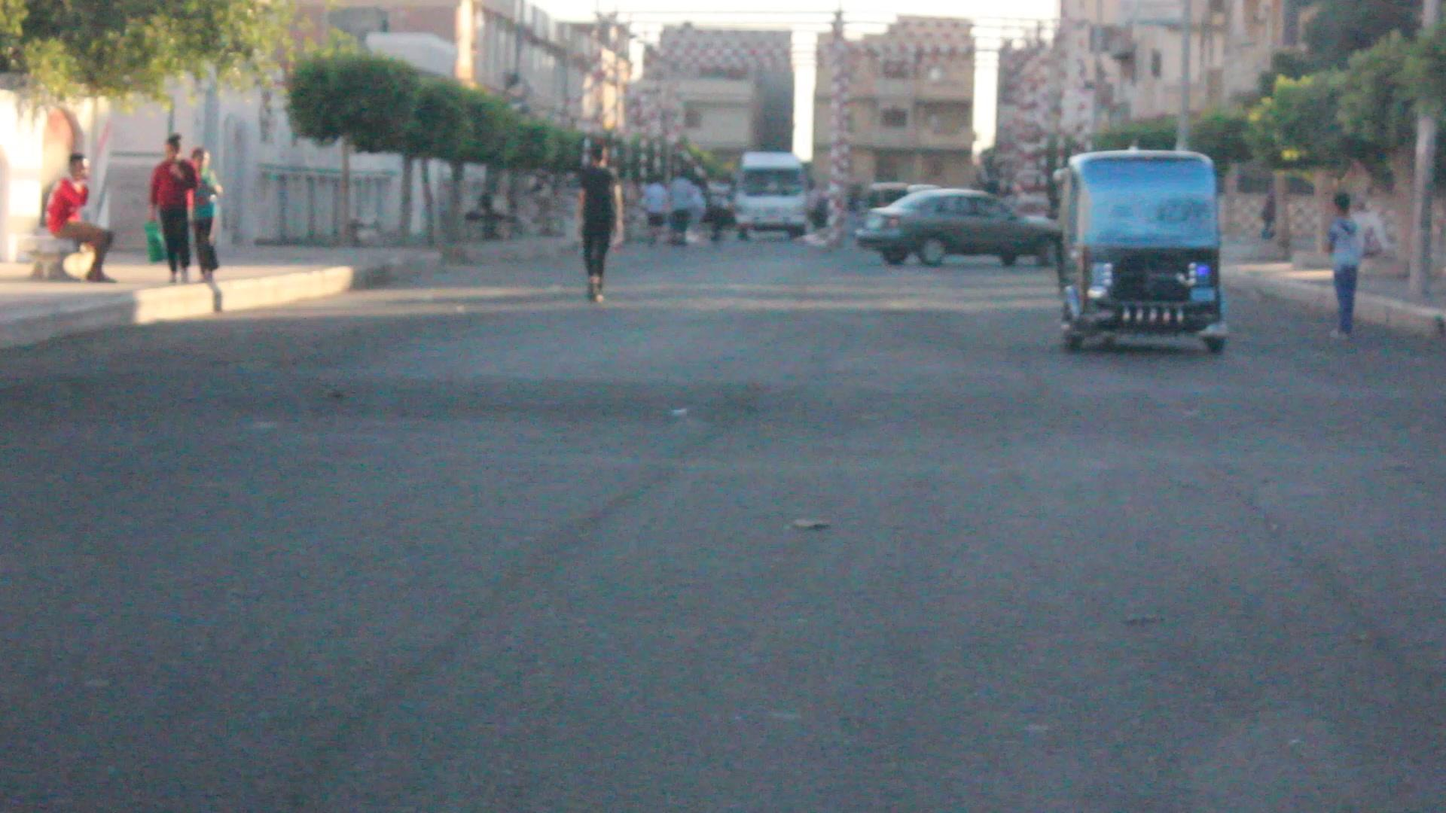Bump: (21, 333, 1446, 482)
